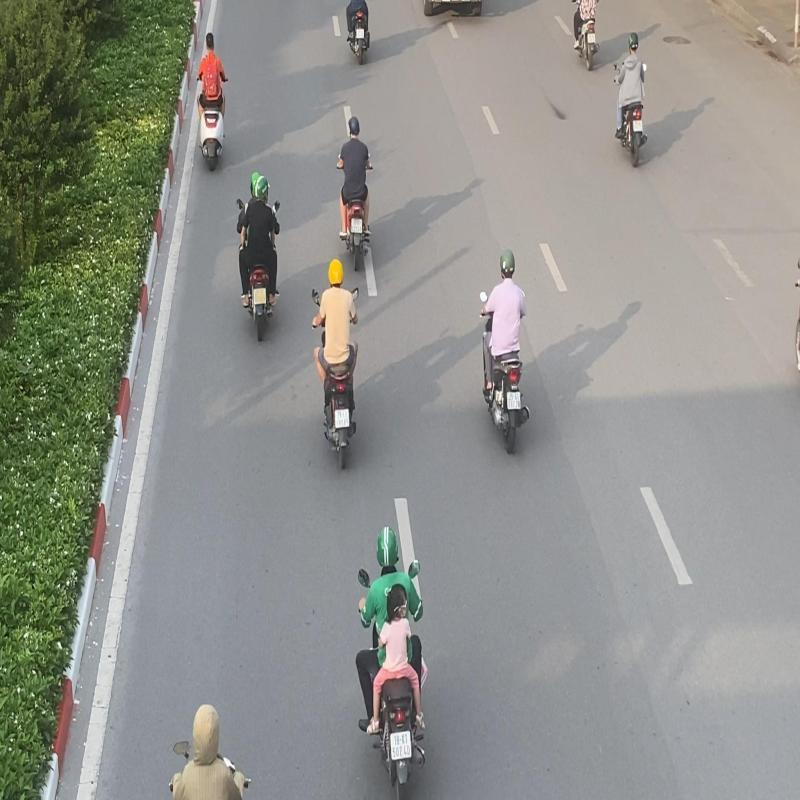helmet: (378, 525, 399, 567), (328, 258, 344, 286), (500, 250, 514, 276)
licenseplate: (390, 731, 412, 760), (334, 407, 350, 429), (506, 390, 521, 410)
motorcyclist: (353, 522, 435, 800), (478, 246, 532, 458), (310, 257, 360, 468)
nohelmet: (386, 582, 407, 618)
